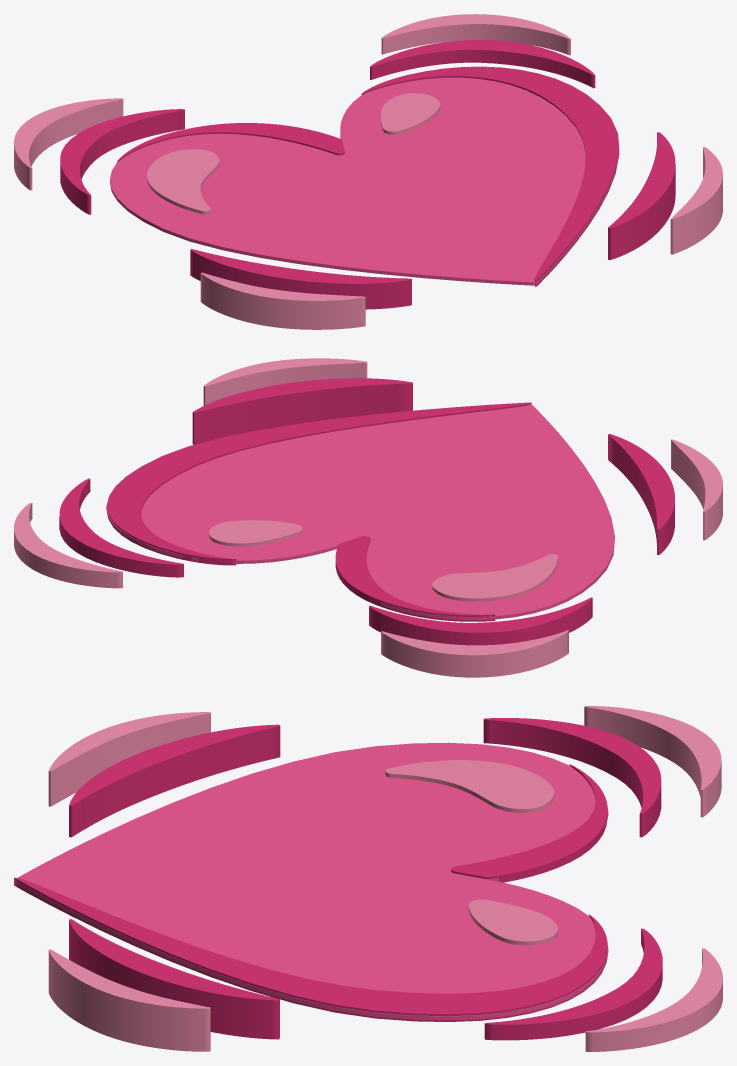
File: emoji_u1f493.glb
The picture shows the model from 3 angles, top to bottom: view 1: azimuth 30°, elevation 25°; view 2: azimuth 150°, elevation 25°; view 3: azimuth 270°, elevation 25°; orthographic projection. The views are drawn at different scales.
Visible parts, largest first — view 1: emoji_u1f493; view 2: emoji_u1f493; view 3: emoji_u1f493.
Part boxes in pixels (<box>): emoji_u1f493: <box>14,14,722,329</box>; emoji_u1f493: <box>14,358,722,677</box>; emoji_u1f493: <box>14,706,722,1051</box>.
Size of the model in its own units: 0.0352 by 0.0022 by 0.0327.
